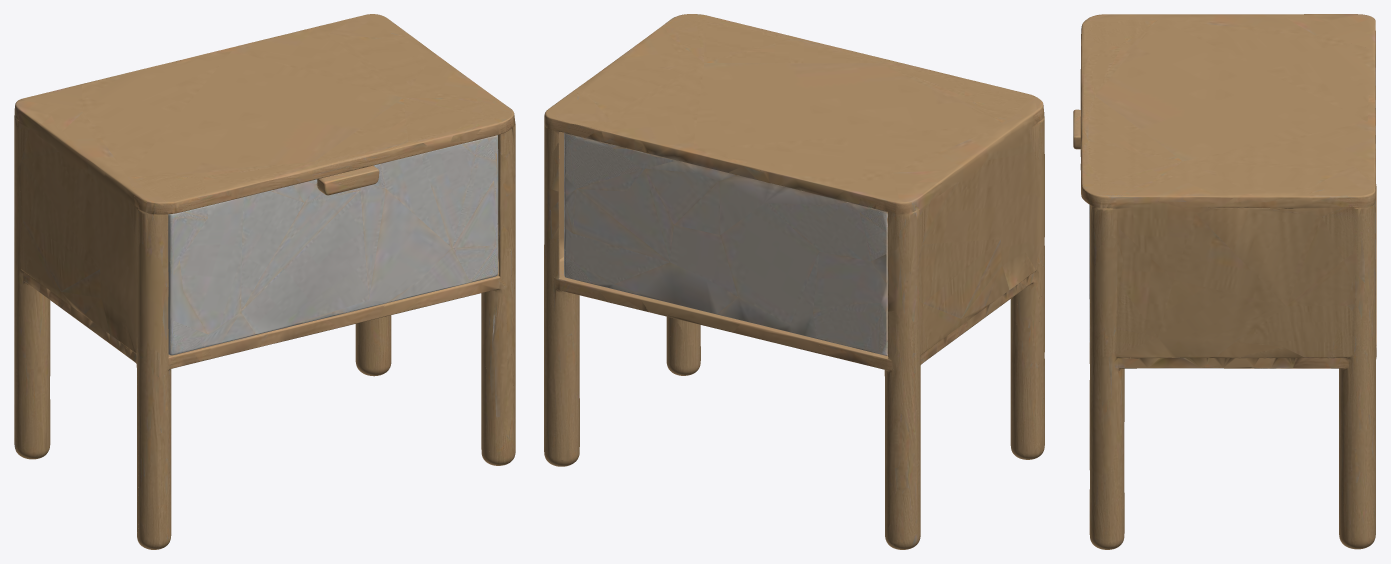
The model's file is bedside-table.glb.
3 renders of one model, left to right at view 1: azimuth 30°, elevation 25°; view 2: azimuth 150°, elevation 25°; view 3: azimuth 270°, elevation 25°, orthographic.
Parts seen in each view (by area): view 1: Mesh_0; view 2: Mesh_0; view 3: Mesh_0.
Boxes of the visible parts, box(x1,y1,x2,y2) form: Mesh_0: box(14, 14, 515, 549); Mesh_0: box(544, 14, 1044, 549); Mesh_0: box(1073, 14, 1376, 549).
Bounding box in the file's own units: 0.55 × 0.4945 × 0.3808.
1 material, 1 textured.
